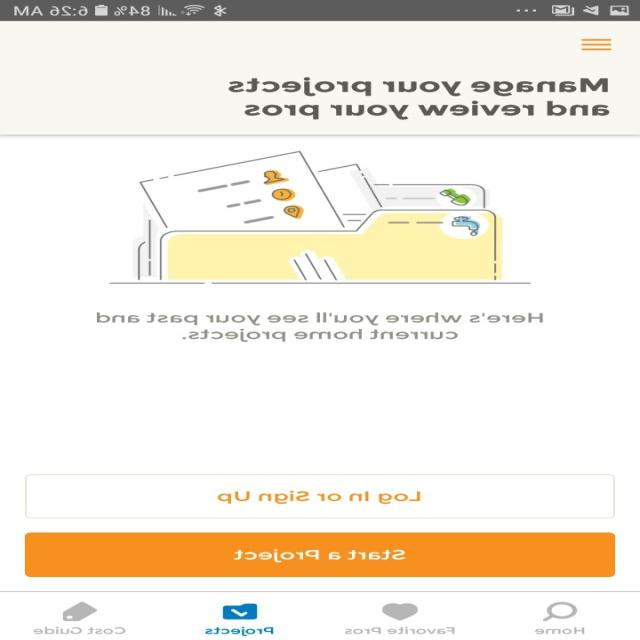Icon: (63, 601, 99, 621), (542, 601, 578, 621), (382, 602, 419, 621), (224, 602, 258, 620), (580, 38, 612, 51)
Image: (109, 150, 532, 284)
Text: (228, 76, 610, 120), (97, 312, 544, 342), (345, 626, 455, 634), (205, 625, 275, 636), (34, 626, 128, 634), (535, 626, 585, 634)
TextButton: (25, 531, 616, 577), (25, 474, 616, 518)
